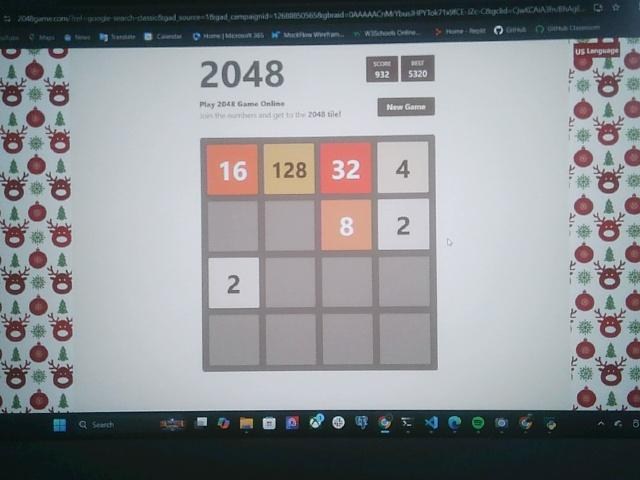board: (201, 136, 435, 371)
tile: (378, 198, 430, 251), (320, 142, 372, 194), (208, 257, 261, 308), (378, 141, 429, 193), (207, 143, 258, 194), (264, 144, 314, 195), (321, 200, 372, 250)
